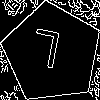L: (27, 28, 63, 79)
